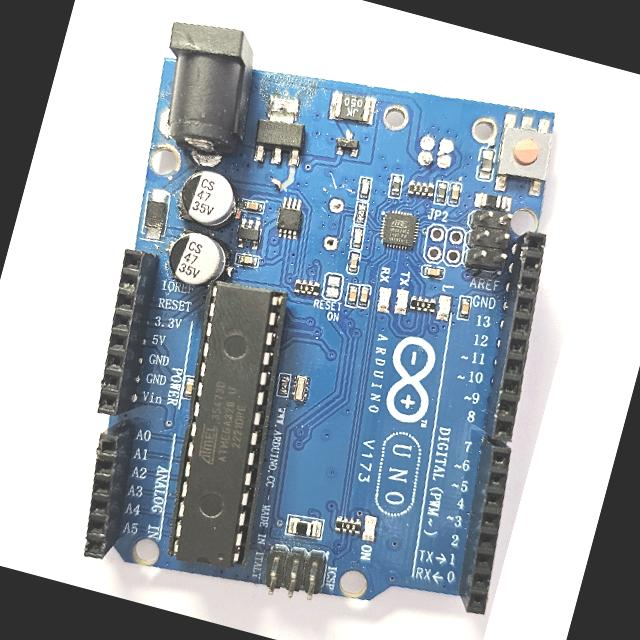missing_crystal_os: (303, 186, 356, 256)
missing_usb: (371, 97, 484, 180)
